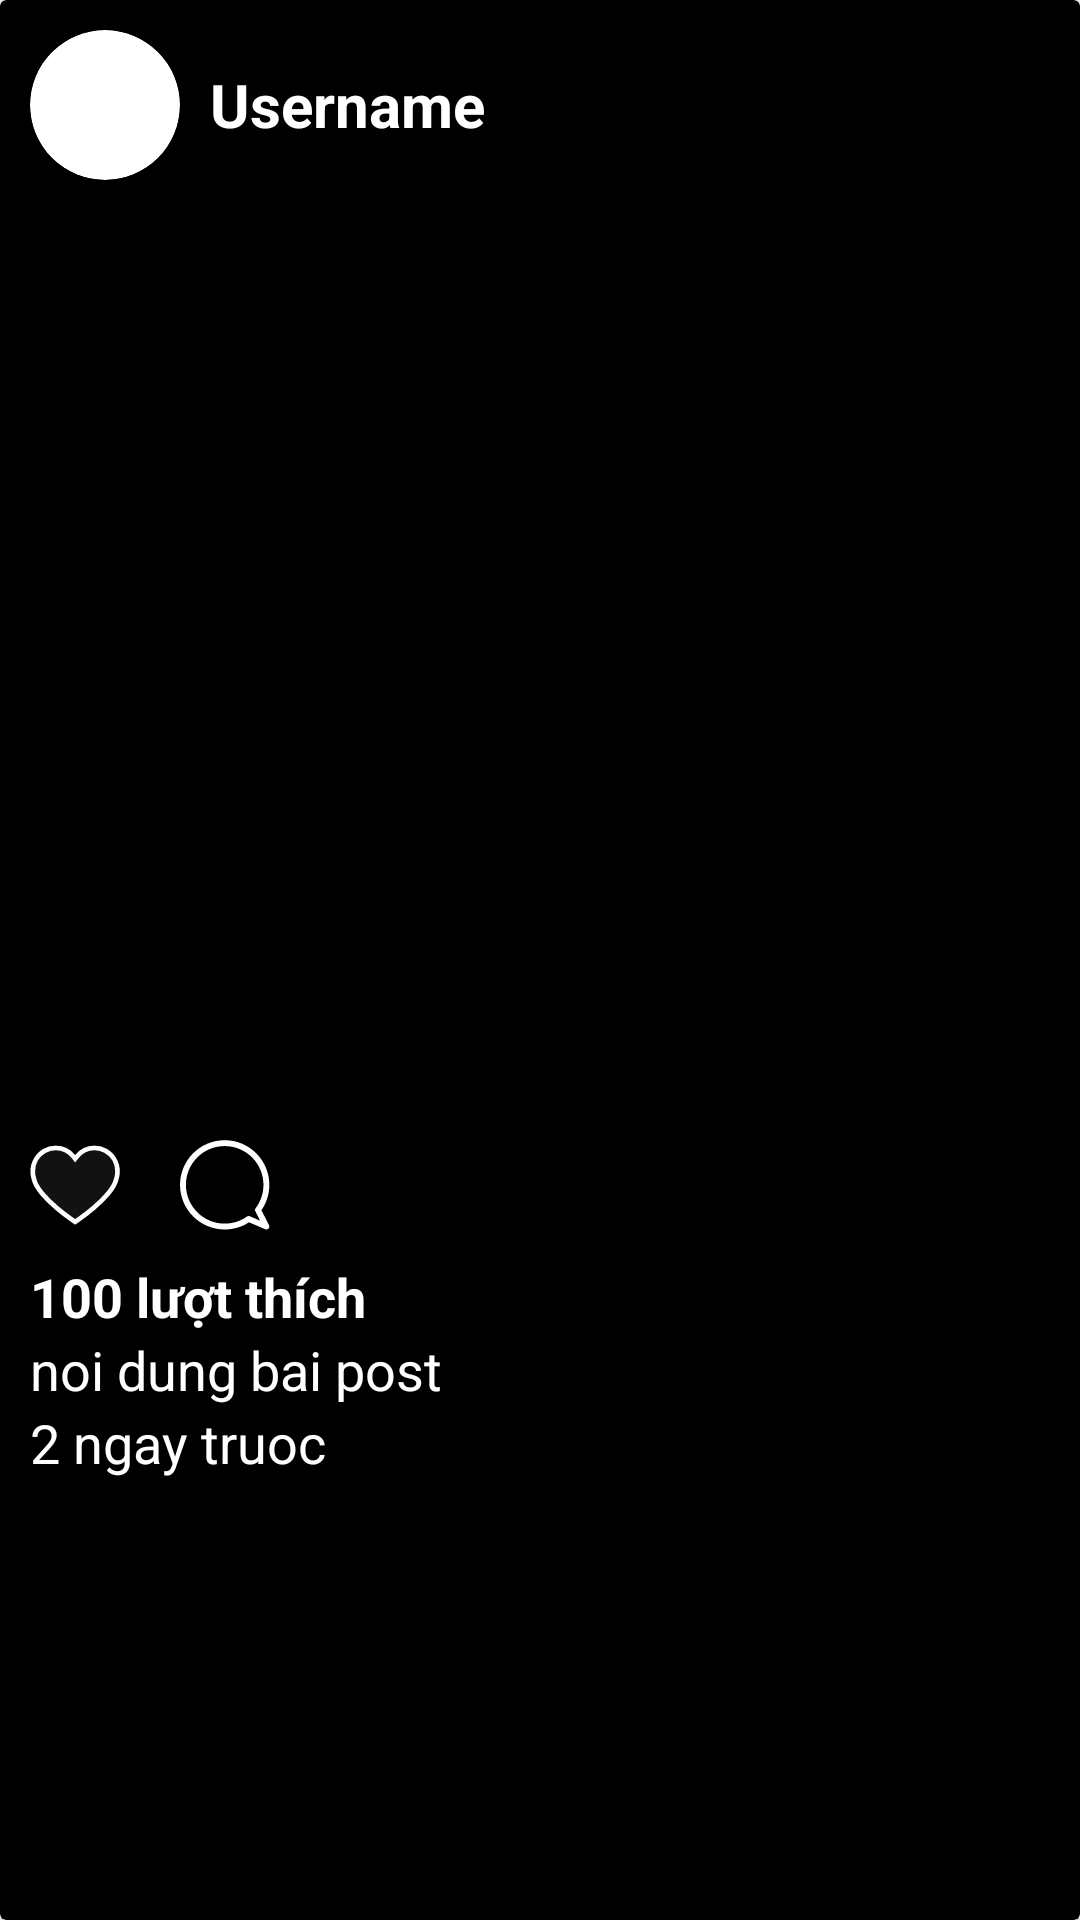

Locate icon controls on the screen. Image size 1080px×1920px, boxes as (x1, y1, x2, y2).
comment: (180, 1140, 270, 1230)
heart: (30, 1145, 120, 1225)
